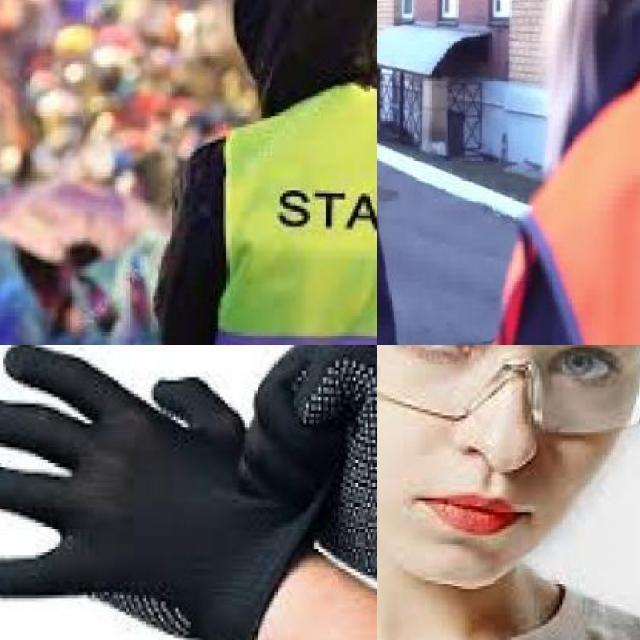apron: (0, 345, 288, 640), (277, 345, 377, 571)
